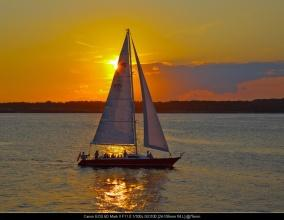fanchuan: (74, 29, 180, 168)
